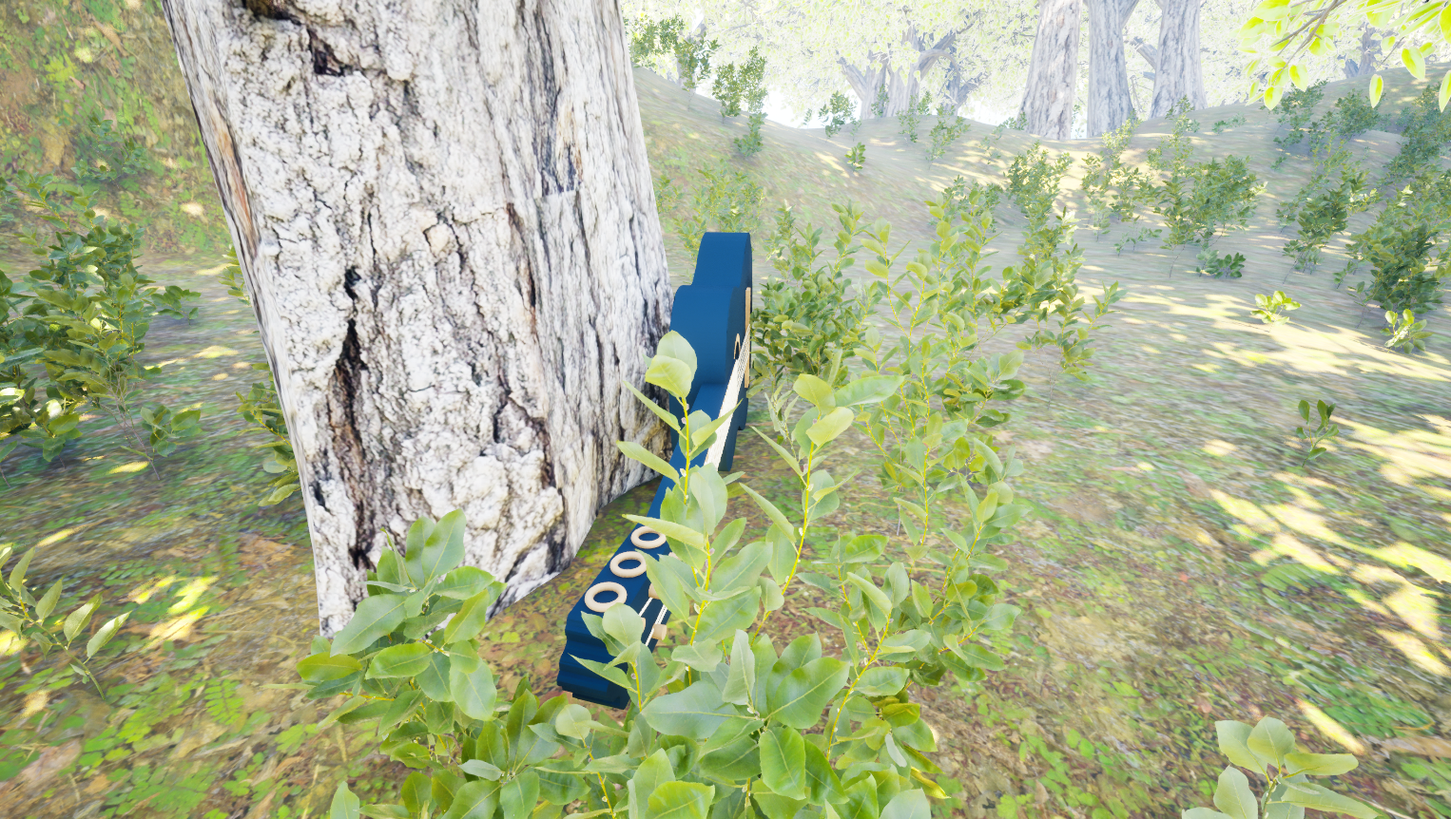Guitar: (473, 224, 757, 819)
